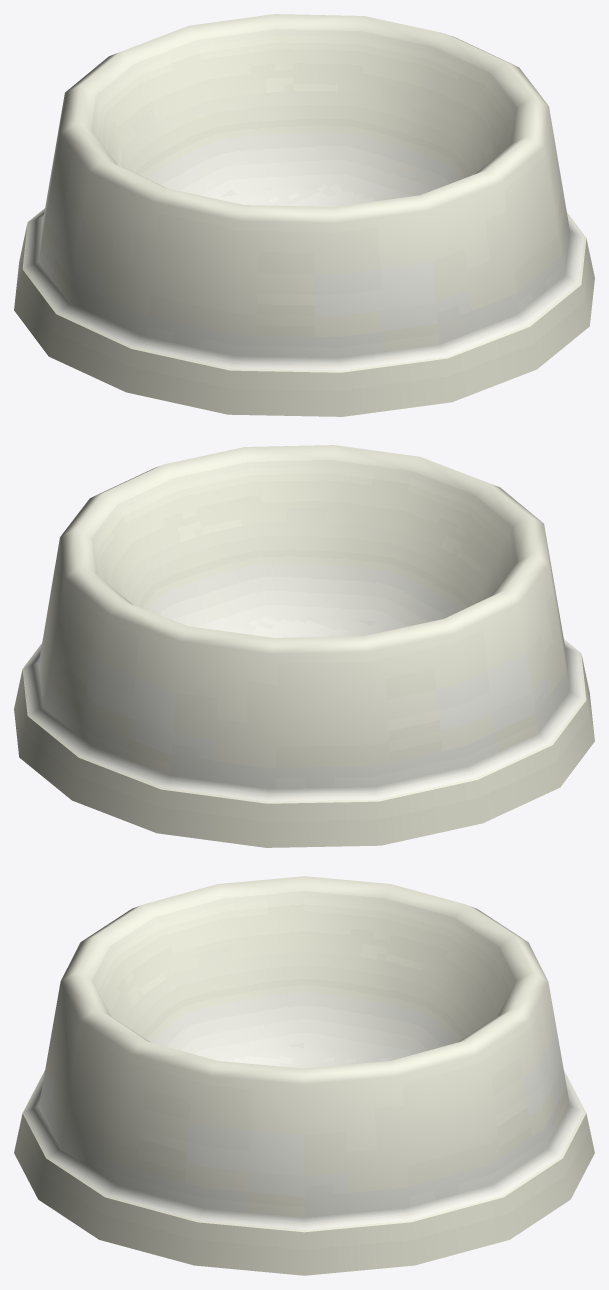
The model's file is F2_Item_Dish_White_1.dae.
3 views of the same model, one above another, from view 1: azimuth 30°, elevation 25°; view 2: azimuth 150°, elevation 25°; view 3: azimuth 270°, elevation 25° (orthographic).
Parts seen in each view (by area): view 1: _0_0_node; view 2: _0_0_node; view 3: _0_0_node.
Boxes of the visible parts, x1,y1,x2,y2 form: _0_0_node: (14, 14, 594, 416); _0_0_node: (14, 445, 594, 847); _0_0_node: (14, 876, 594, 1275).
Bounding box in the file's own units: 1.89 × 0.6485 × 1.89.
Materials: 1 (1 with a texture image).
